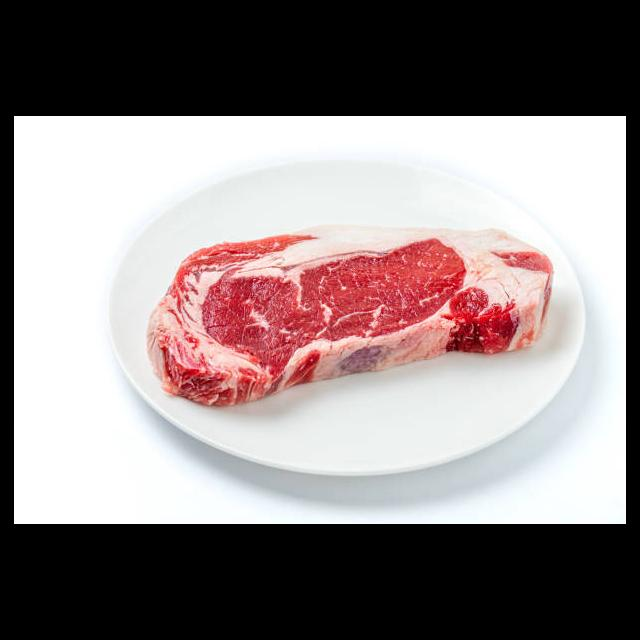beef: (143, 222, 555, 407)
